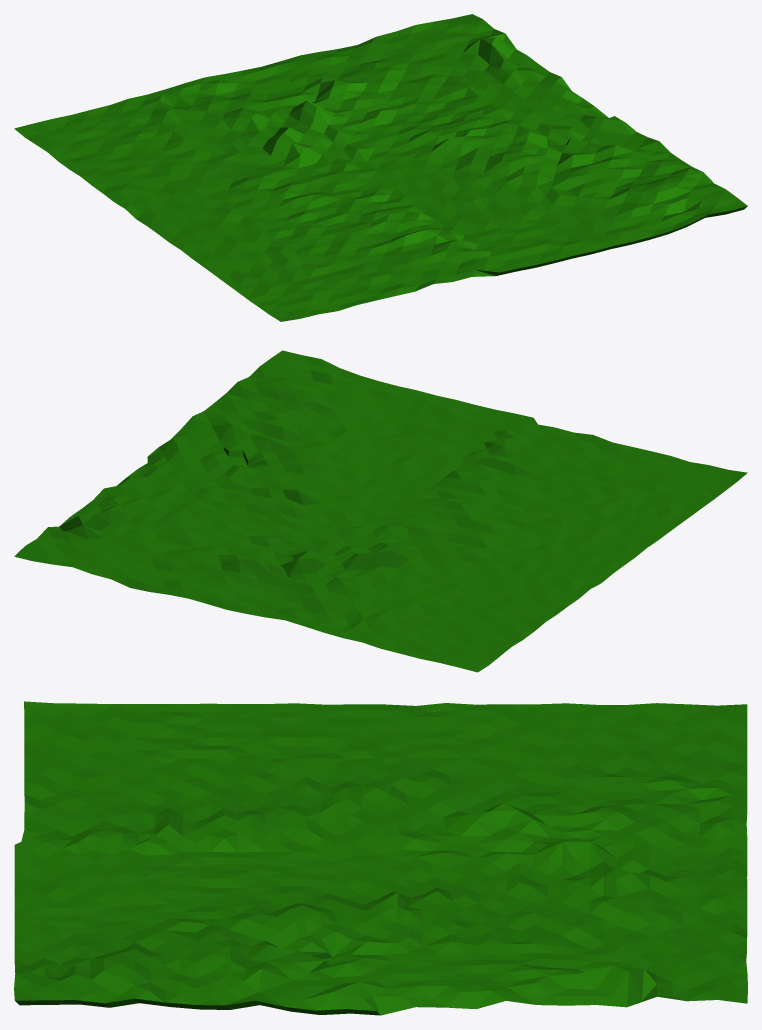
The model's file is Terrain.FBX.
3 renders of one model, top to bottom at view 1: azimuth 30°, elevation 25°; view 2: azimuth 150°, elevation 25°; view 3: azimuth 270°, elevation 25°, orthographic. The views are drawn at different scales.
Visible parts, largest first — view 1: Terreno; view 2: Terreno; view 3: Terreno.
Part boxes in pixels (x1,y1,x2,y2): Terreno: (14,14,747,321); Terreno: (14,350,747,672); Terreno: (14,701,747,1015).
Size of the model in its own units: 129 by 5.54 by 131.
